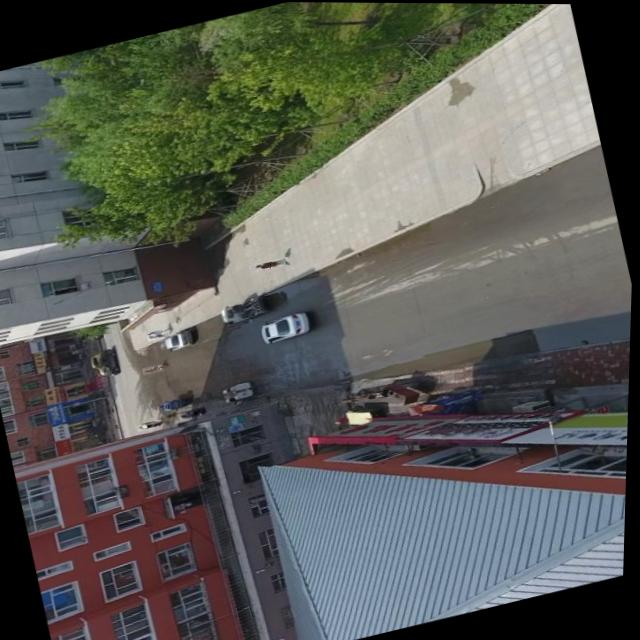Person: (255, 254, 291, 270), (182, 405, 209, 418), (148, 328, 171, 340), (143, 362, 166, 374), (149, 326, 173, 337), (139, 419, 161, 430), (144, 418, 164, 427), (150, 420, 166, 426)
